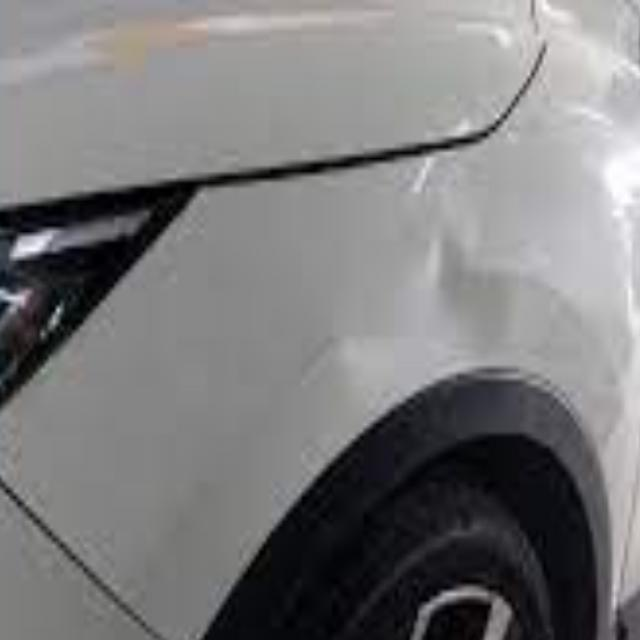dents: (407, 218, 601, 385)
